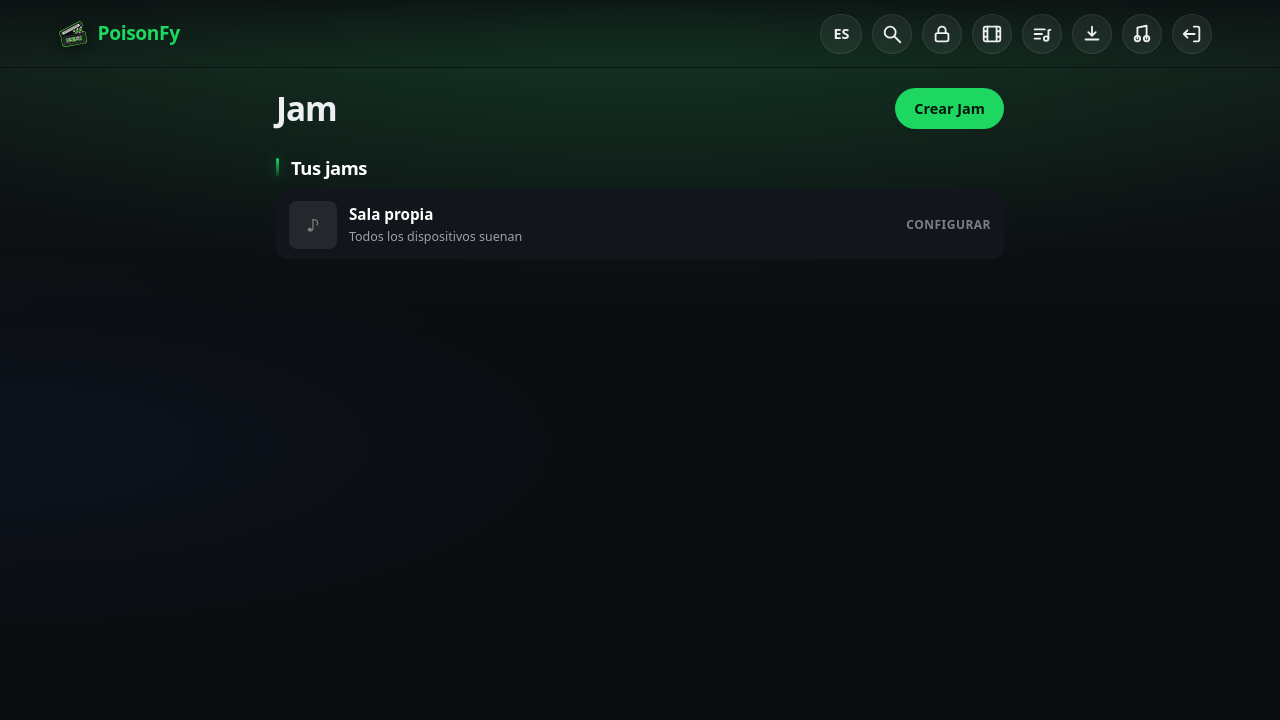
Test: JamScreen › shows the user search for the owner
The image size is (1280, 720).
Click the button "♪ Sala propia Todos los dispositivos suenan Configurar".
click(313, 225)  # box top-left (276, 190), bottom-right (1004, 259)
(page scrolled)
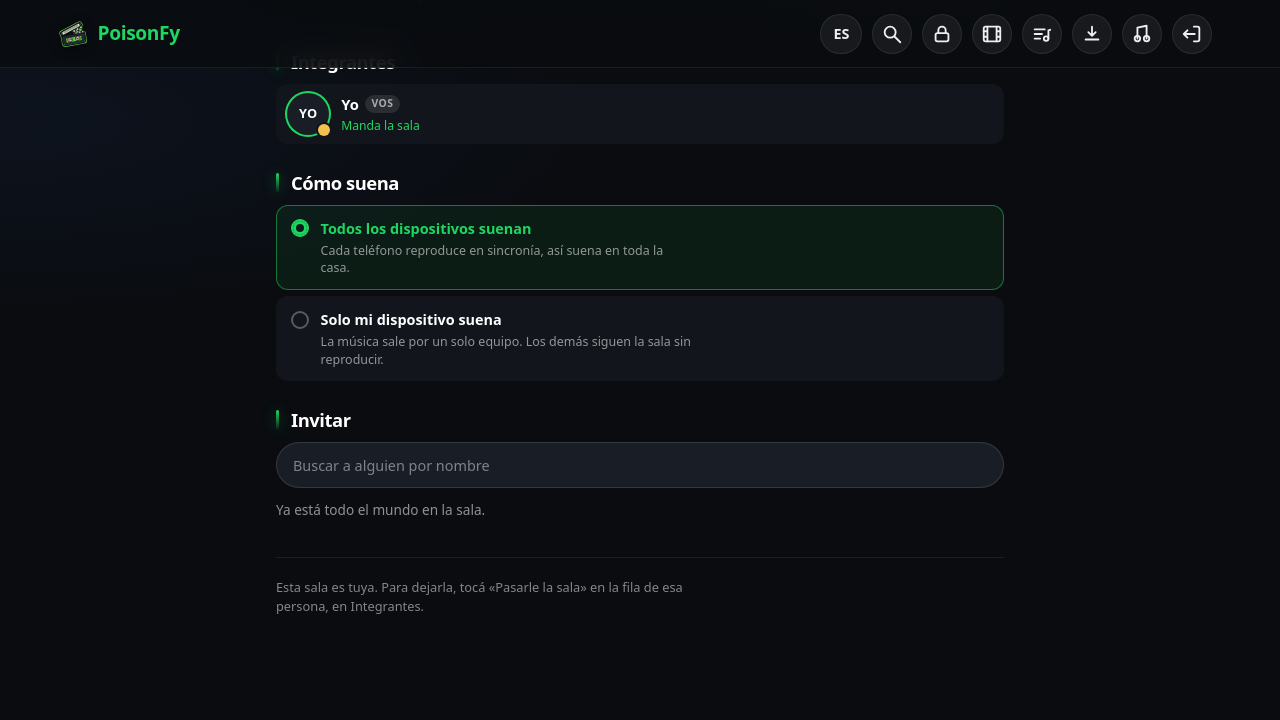
expect the field named "Buscar usuarios para invitar" is shown: met, box top-left (276, 442), bottom-right (1004, 488)
